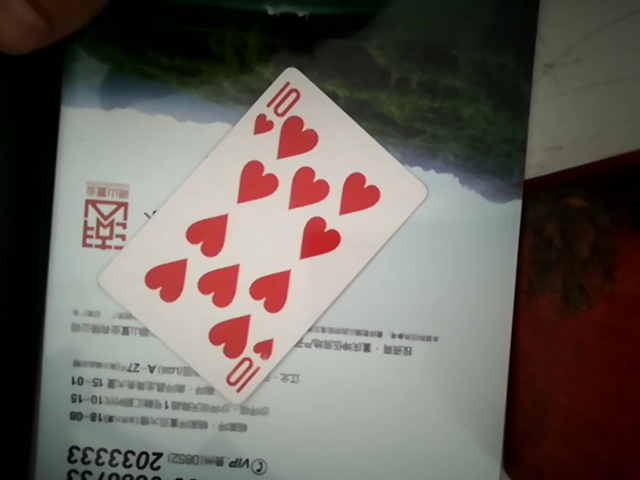hx 10: (88, 63, 427, 404)
